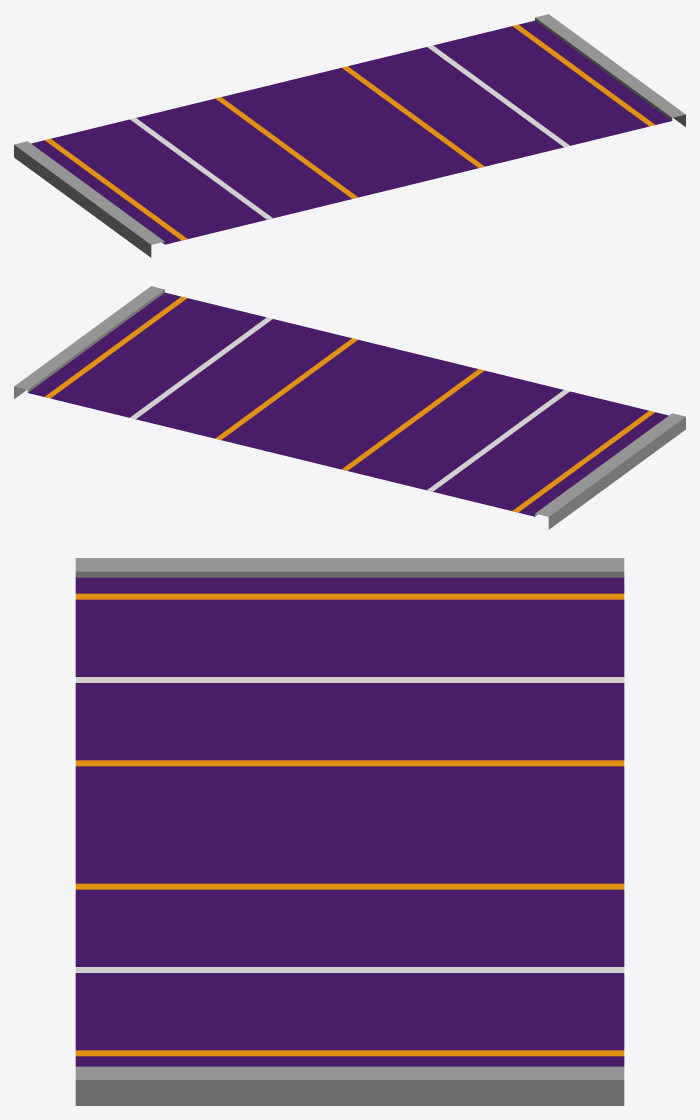
Rendered from Road_C_2L_1_2.glb.
3 renders of one model, top to bottom at view 1: azimuth 30°, elevation 25°; view 2: azimuth 150°, elevation 25°; view 3: azimuth 270°, elevation 25°, orthographic. The views are drawn at different scales.
Parts seen in each view (by area): view 1: Road_C_2L_1_2; view 2: Road_C_2L_1_2; view 3: Road_C_2L_1_2.
Part boxes in pixels (x1,y1,x2,y2): Road_C_2L_1_2: (14, 14, 685, 257); Road_C_2L_1_2: (14, 286, 685, 529); Road_C_2L_1_2: (75, 558, 624, 1105).
Size of the model in its own units: 18 by 0.4148 by 8.
Materials: 1 (1 with a texture image).
